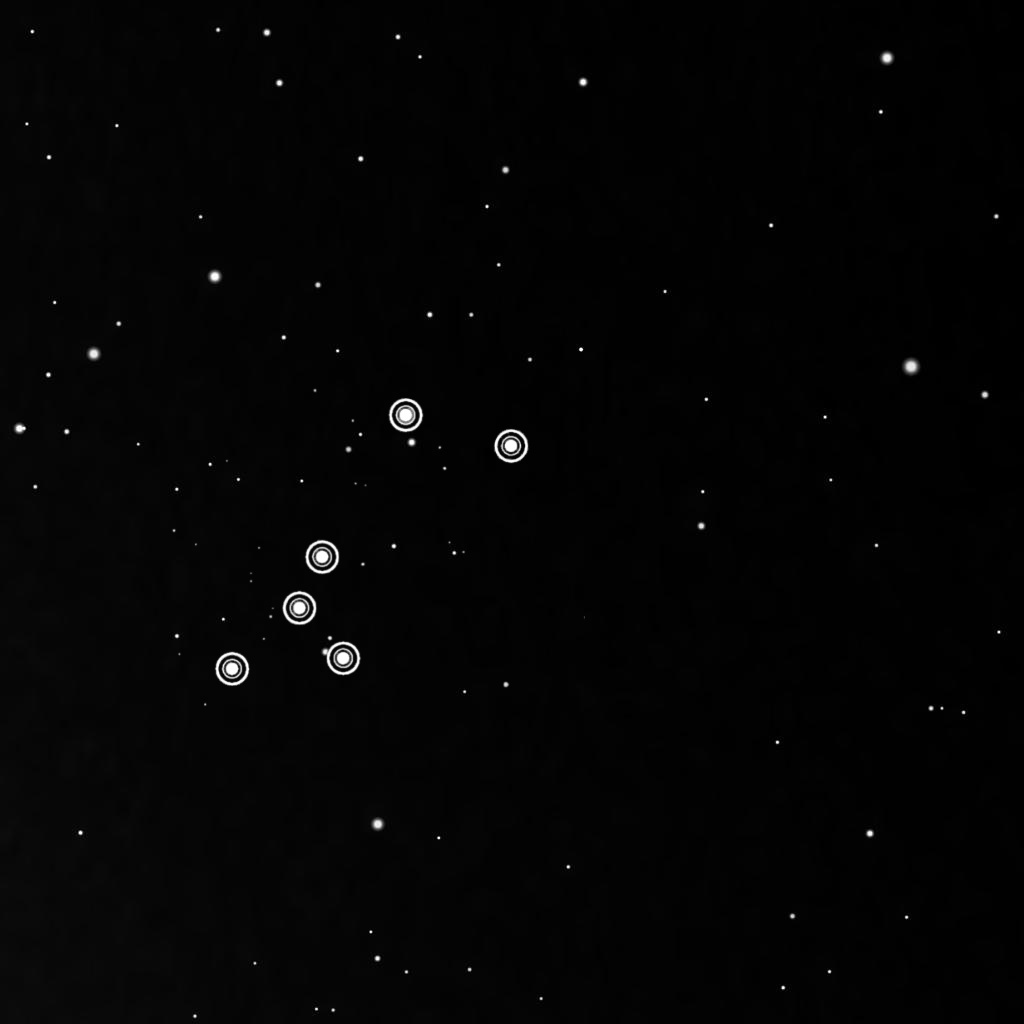canis_major: (208, 387, 539, 695)
